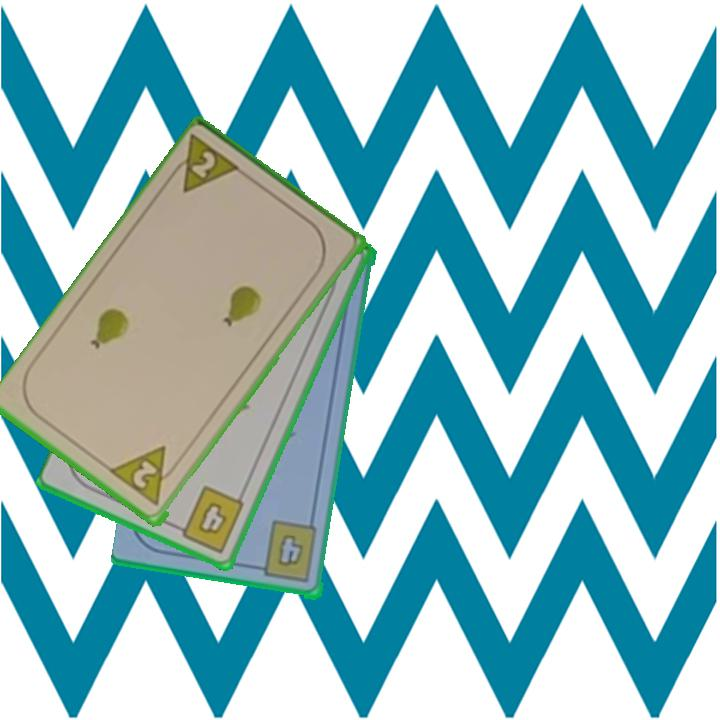2p: (108, 442, 183, 509), (187, 147, 219, 182)
4b: (170, 482, 248, 556), (252, 519, 321, 586)
